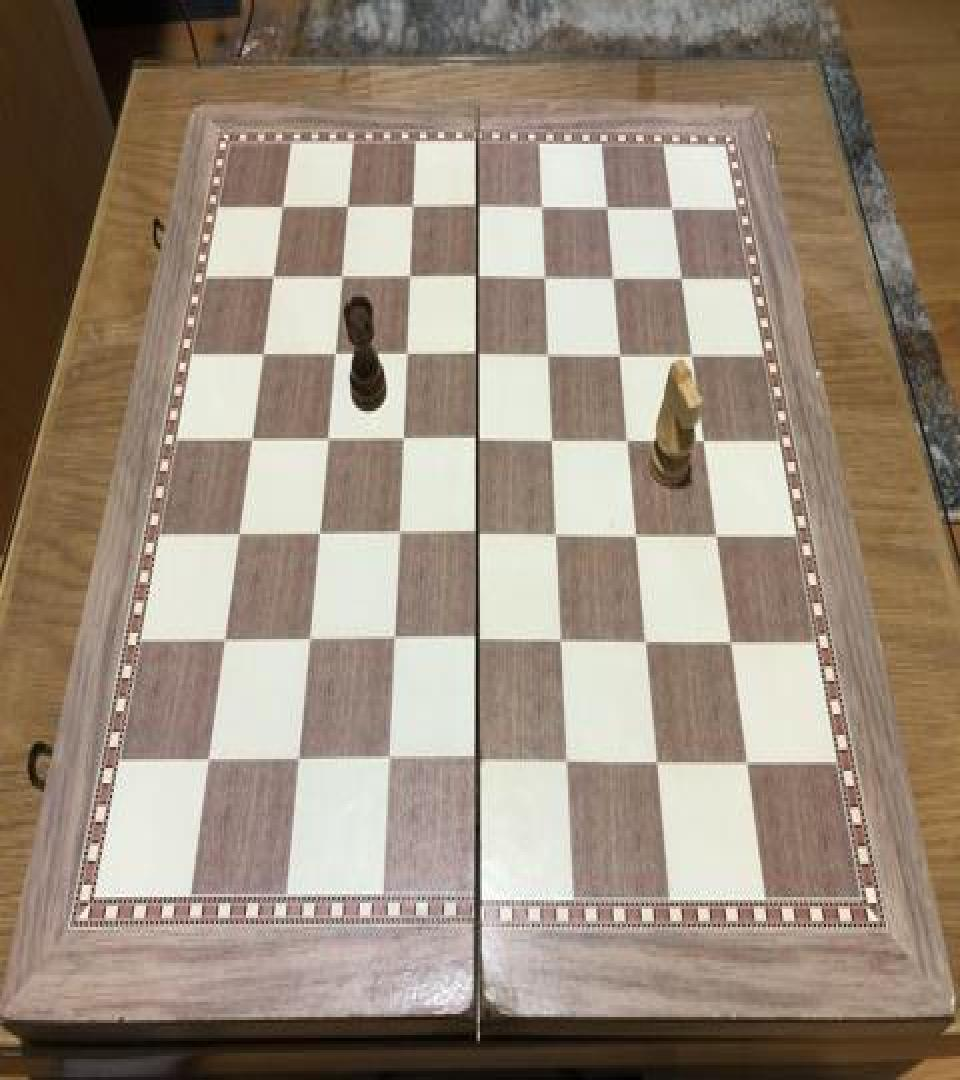xcorner: (720, 625, 744, 662), (635, 625, 659, 662), (551, 625, 575, 662), (466, 625, 490, 662), (381, 625, 405, 662), (296, 625, 320, 662), (661, 190, 685, 226), (596, 190, 620, 226), (531, 190, 555, 226), (466, 190, 490, 226), (400, 190, 424, 226), (335, 190, 359, 226), (270, 190, 294, 226), (671, 261, 695, 297), (602, 261, 626, 297), (534, 261, 558, 297), (466, 261, 490, 297), (397, 261, 421, 297), (329, 261, 353, 297), (261, 261, 285, 297), (681, 338, 705, 374), (609, 338, 633, 374), (538, 338, 562, 374), (466, 338, 490, 374), (394, 338, 418, 374), (322, 338, 346, 374), (250, 338, 274, 374), (693, 423, 717, 459), (617, 423, 641, 459), (541, 423, 565, 459), (466, 423, 490, 459), (390, 423, 414, 459), (315, 423, 339, 459), (239, 423, 263, 459), (706, 519, 730, 555), (626, 519, 650, 555), (546, 519, 570, 555), (466, 519, 490, 555), (386, 519, 410, 555), (306, 519, 330, 555), (226, 518, 250, 554), (212, 624, 236, 660), (737, 746, 761, 782), (646, 746, 670, 782), (556, 746, 580, 782), (466, 746, 490, 782), (376, 746, 400, 782), (286, 746, 310, 782), (196, 746, 220, 782)
